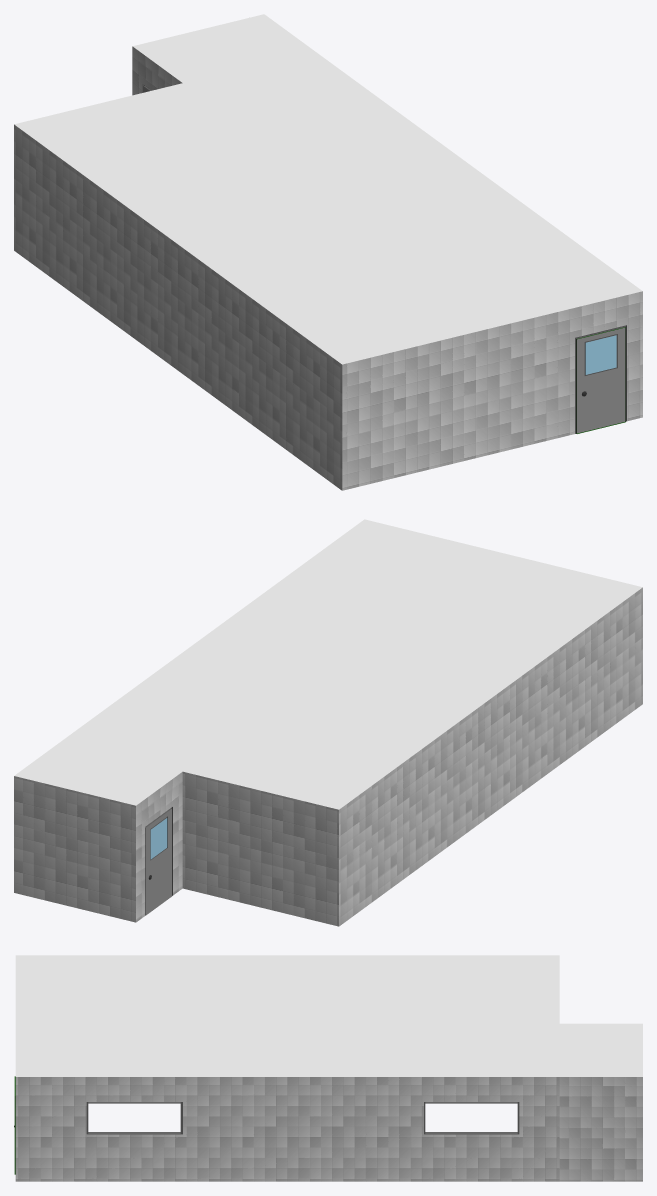
File: Walls.fbx
3 renders of one model, top to bottom at view 1: azimuth 30°, elevation 25°; view 2: azimuth 150°, elevation 25°; view 3: azimuth 270°, elevation 25°, orthographic. The views are drawn at different scales.
Parts seen in each view (by area): view 1: Walls; view 2: Walls; view 3: Walls.
Part boxes in pixels (left/top/right/bottom): Walls: left=14, top=14, right=642, bottom=490; Walls: left=14, top=519, right=642, bottom=926; Walls: left=14, top=955, right=642, bottom=1181.
Bounding box in the file's own units: 599 × 240 × 1303.
